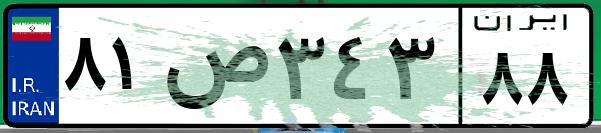1: (110, 28, 158, 98)
3: (270, 28, 330, 110), (385, 28, 445, 110)
4: (330, 28, 385, 110)
8: (57, 26, 110, 100), (475, 38, 525, 113), (525, 38, 570, 115)
ص: (158, 20, 270, 120)
